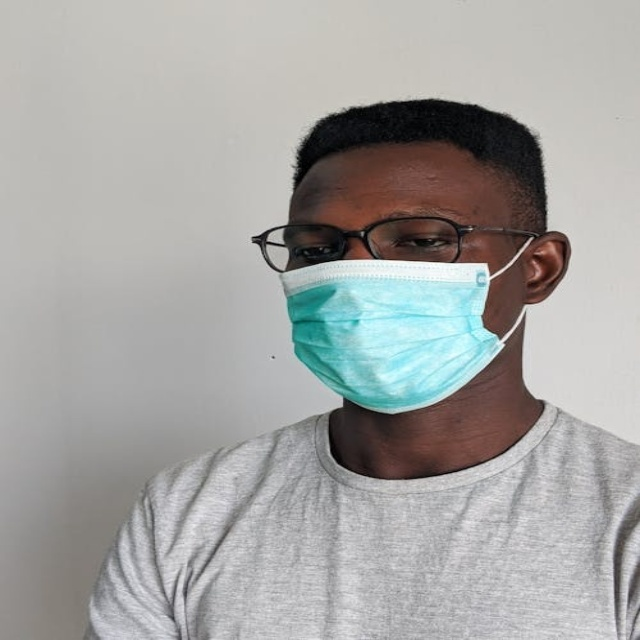Gafas: (251, 217, 542, 271)
Mascara: (278, 247, 527, 413)
